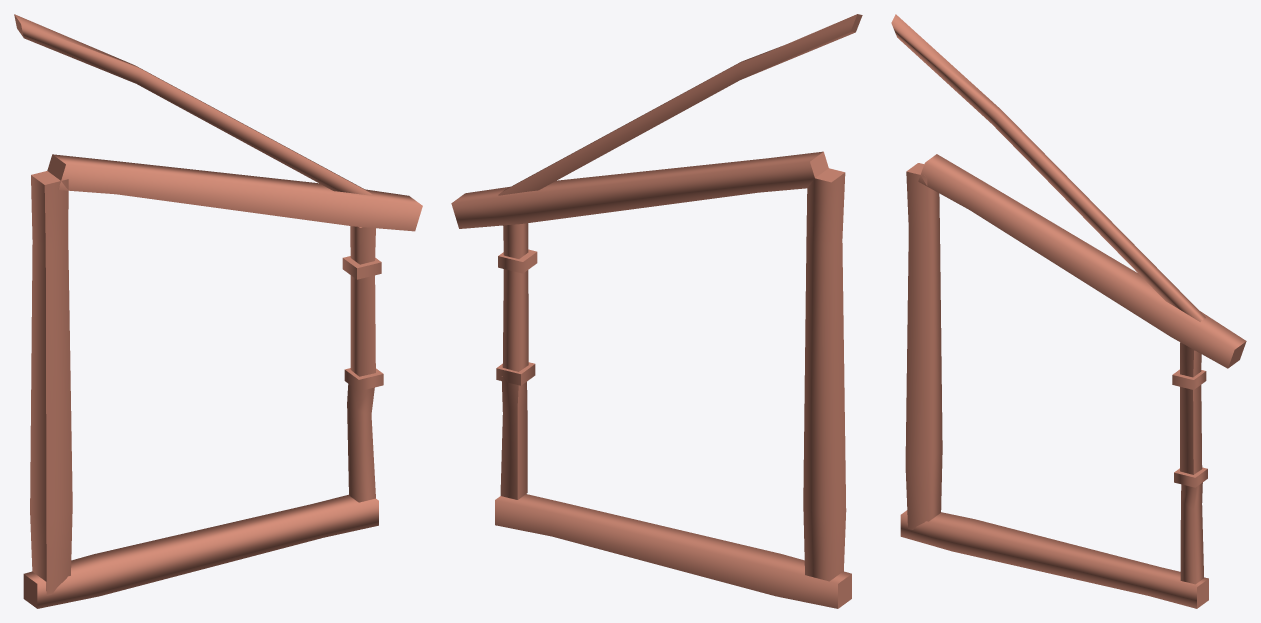
File: wooden_arcade_end.fbx
3 views of the same model, side by side, from view 1: azimuth 30°, elevation 25°; view 2: azimuth 150°, elevation 25°; view 3: azimuth 330°, elevation 25° (orthographic). The views are drawn at different scales.
Parts seen in each view (by area): view 1: Cube.047; view 2: Cube.047; view 3: Cube.047.
Boxes of the visible parts, bbox=[...] form: Cube.047: bbox=[14, 14, 422, 608]; Cube.047: bbox=[451, 14, 862, 608]; Cube.047: bbox=[891, 14, 1246, 608].
Size of the model in its own units: 3.86 by 5.48 by 0.3071.
